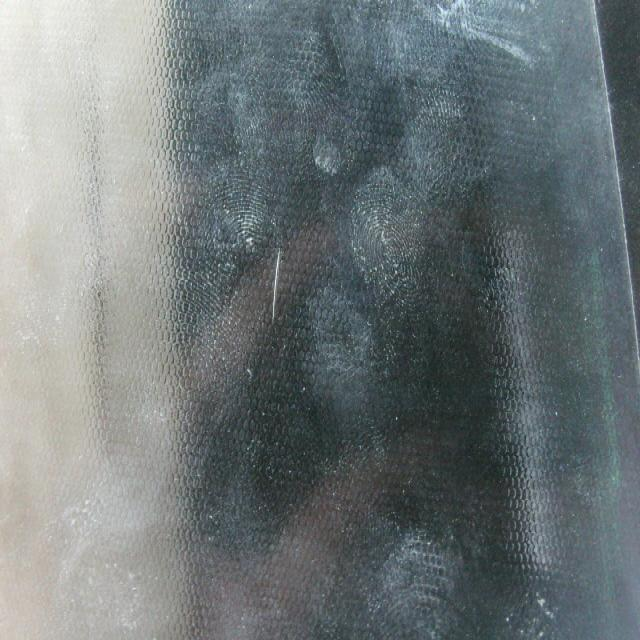scratch: (262, 237, 292, 335)
